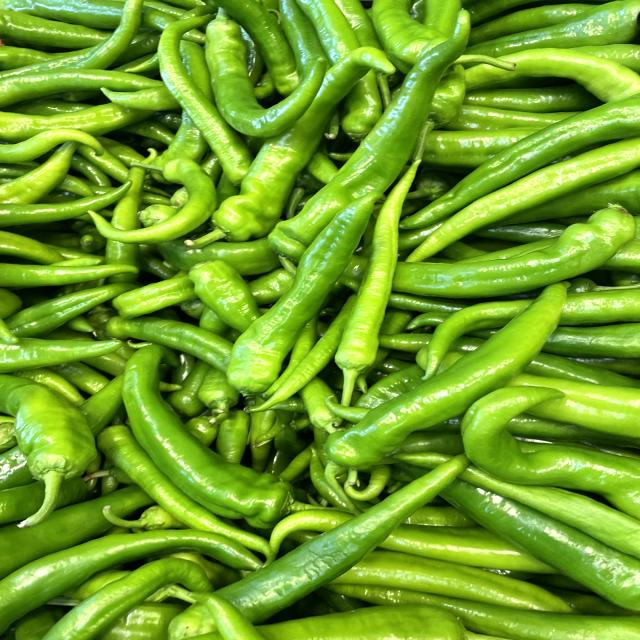green pepper: (308, 275, 576, 480), (117, 343, 315, 531), (221, 187, 396, 393), (327, 155, 429, 393), (199, 10, 332, 142)
